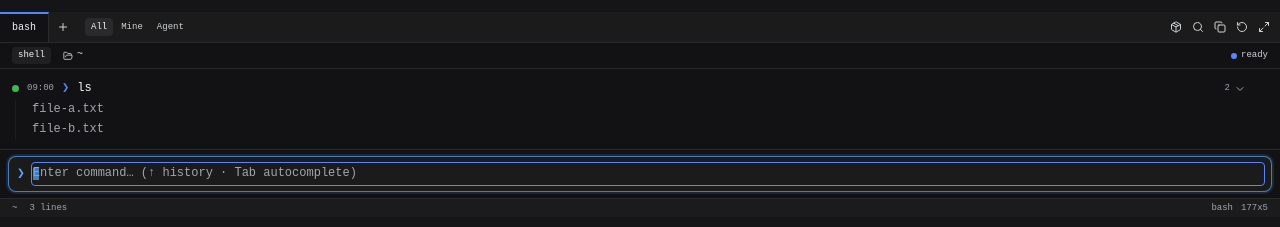
Test case: TerminalPanel command grouping › collapses a command's output when its toggle is clicked
Expected: the text "file-a.txt" is shown, [32, 102, 104, 116]
What coordinates should you click on to do the following:
click the button titled "Collapse output"
I would click on:
 (1235, 89)
Its box is [1225, 81, 1246, 96].
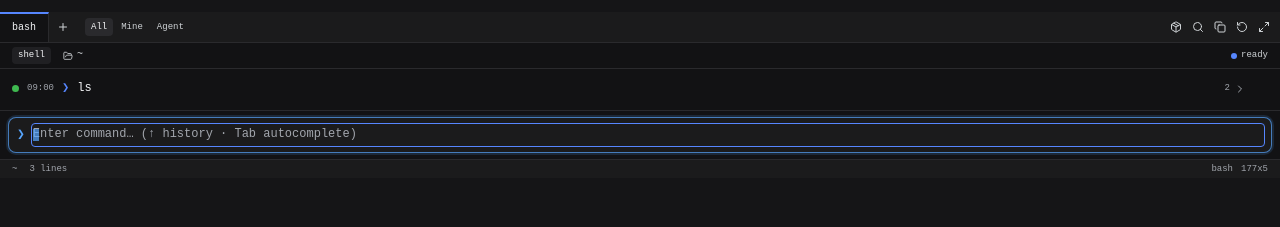
Expected: the text "ls" is shown, [77, 81, 92, 95]
Now the text "file-a.txt" is gone
Now the text "file-b.txt" is gone
What coordinates should you click on to do the following:
click the button titled "Expand output"
I would click on:
 (1235, 89)
Its box is [1225, 81, 1246, 96].
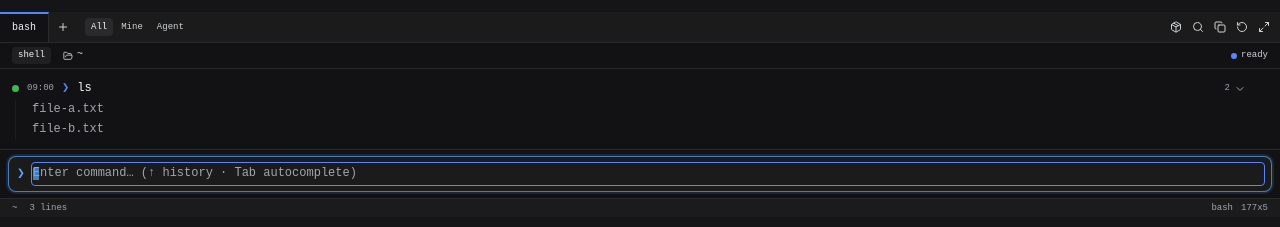
Now the text "file-a.txt" is shown, box [32, 102, 104, 116]
